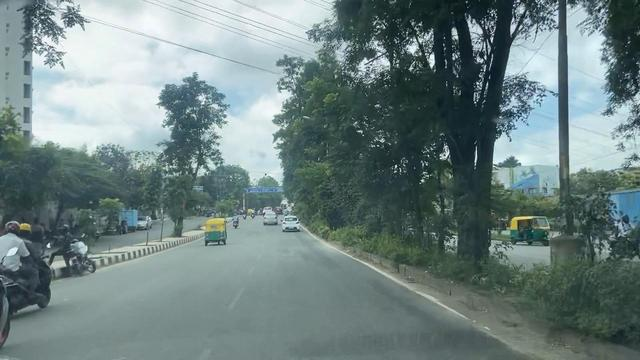LMV: (205, 217, 227, 244), (283, 216, 298, 232), (263, 211, 276, 224)
